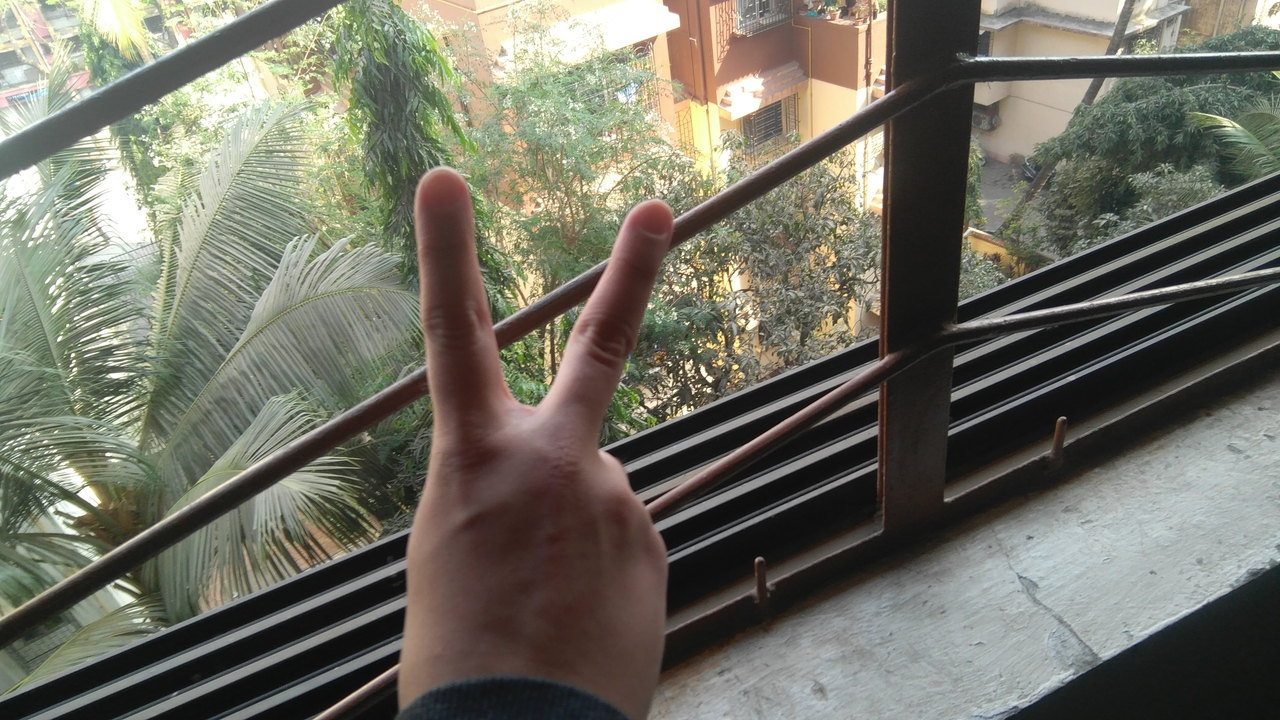fingertip: (408, 158, 470, 224), (616, 196, 672, 254)
